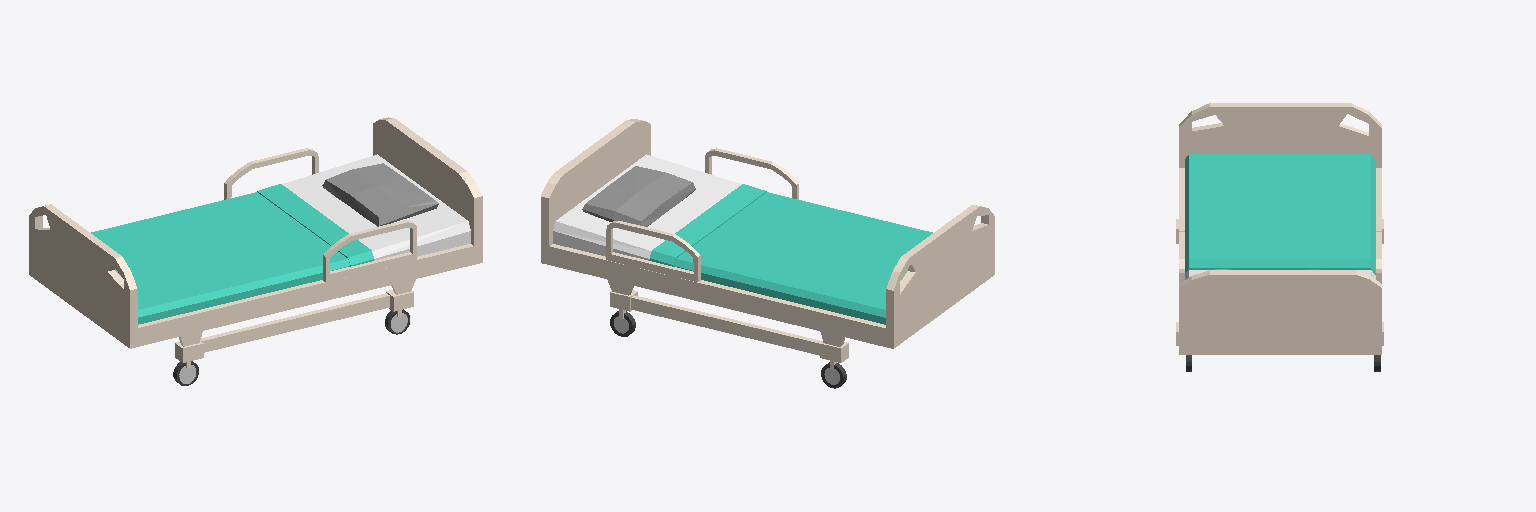
3 views of the same model, side by side, from view 1: azimuth 30°, elevation 25°; view 2: azimuth 150°, elevation 25°; view 3: azimuth 270°, elevation 25° (orthographic).
Visible parts, largest first — view 1: Cube.008_Cube.010, Cube.001, Cube.002, Cylinder.000_Cylinder.004; view 2: Cube.008_Cube.010, Cube.001, Cube.002, Cylinder.000_Cylinder.004; view 3: Cube.008_Cube.010, Cube.001.
Part boxes in pixels (x1,y1,x2,y2): Cube.008_Cube.010: (29, 117, 482, 367); Cube.001: (91, 154, 470, 324); Cube.002: (322, 163, 438, 226); Cylinder.000_Cylinder.004: (173, 309, 409, 385); Cube.008_Cube.010: (541, 119, 994, 370); Cube.001: (553, 154, 932, 324); Cube.002: (582, 166, 695, 226); Cylinder.000_Cylinder.004: (610, 311, 846, 388); Cube.008_Cube.010: (1176, 103, 1383, 354); Cube.001: (1185, 154, 1375, 279).
Size of the model in its own units: 7.94 by 2.89 by 4.06.
4 materials, 3 textured.